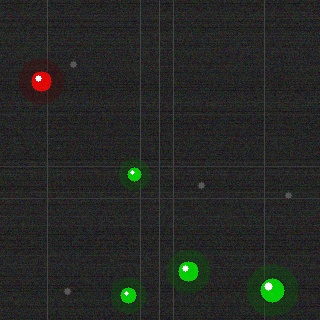green_normal: (258, 276, 286, 304), (176, 259, 200, 283), (118, 285, 138, 305), (125, 165, 143, 183)
red_fault: (29, 69, 53, 93)
